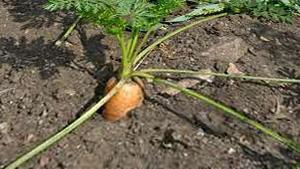carrot: (92, 73, 148, 127)
